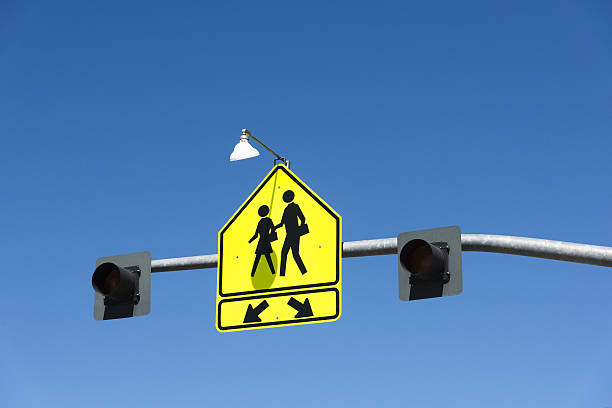pedestrian: (217, 183, 338, 284)
